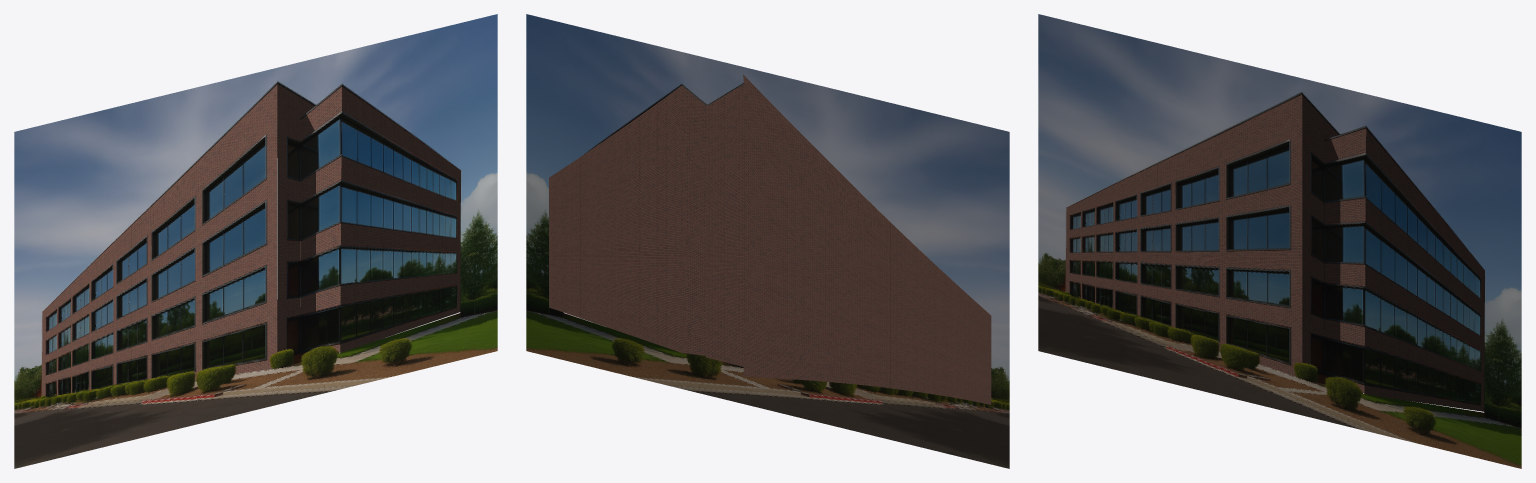
File: place-plaza.glb
The picture shows the model from 3 angles, left to right: view 1: azimuth 30°, elevation 25°; view 2: azimuth 150°, elevation 25°; view 3: azimuth 330°, elevation 25°; orthographic projection.
Parts seen in each view (by area): view 1: plazaaa.001, plazaaa; view 2: plazaaa, plazaaa.001; view 3: plazaaa.001, plazaaa.
Part boxes in pixels (box(x1,y1,x2,y2)): plazaaa.001: box(14, 14, 497, 468); plazaaa: box(41, 84, 460, 395); plazaaa: box(549, 74, 991, 404); plazaaa.001: box(526, 14, 1009, 468); plazaaa.001: box(1038, 14, 1521, 468); plazaaa: box(1065, 94, 1484, 411).
Size of the model in its own units: 1.5 by 1 by 0.00562.
Materials: 3 (2 with a texture image).
